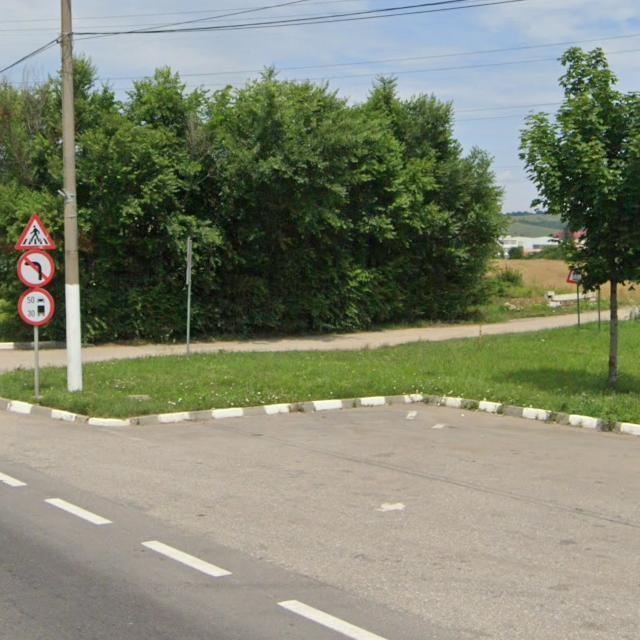warn_crosswalk: (16, 214, 51, 251)
